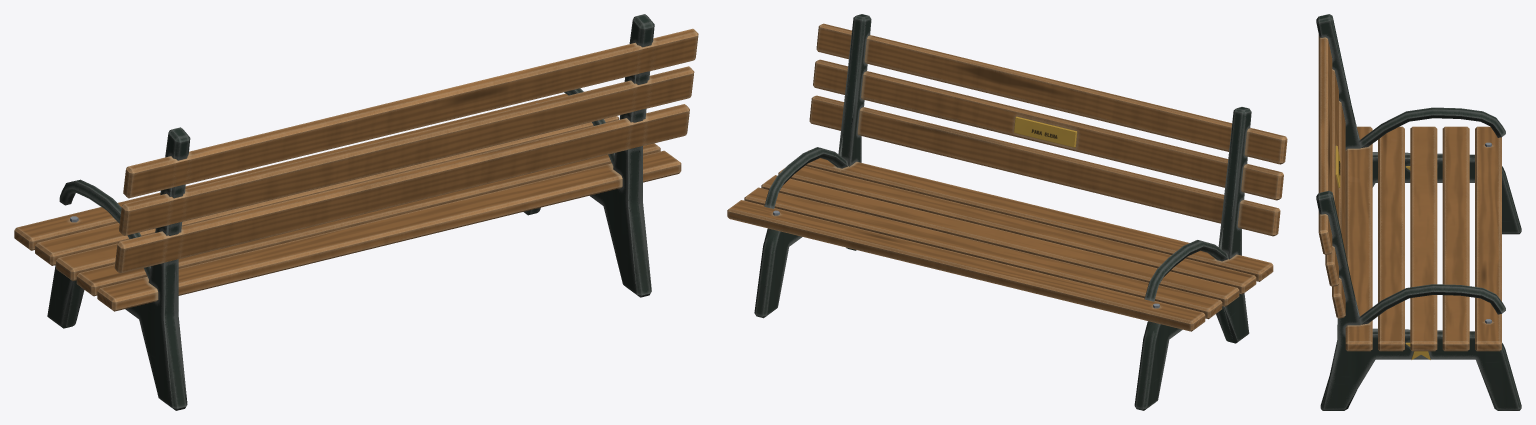
The model's file is banco_parque.fbx.
3 views of the same model, side by side, from view 1: azimuth 30°, elevation 25°; view 2: azimuth 150°, elevation 25°; view 3: azimuth 270°, elevation 25° (orthographic). The views are drawn at different scales.
Parts seen in each view (by area): view 1: banco_parque; view 2: banco_parque; view 3: banco_parque.
Part boxes in pixels (left/top/right/bottom): banco_parque: left=14, top=14, right=698, bottom=410; banco_parque: left=727, top=14, right=1287, bottom=410; banco_parque: left=1316, top=14, right=1521, bottom=410.
Bounding box in the file's own units: 3.8 × 1.78 × 1.52.
1 material, 1 textured.
